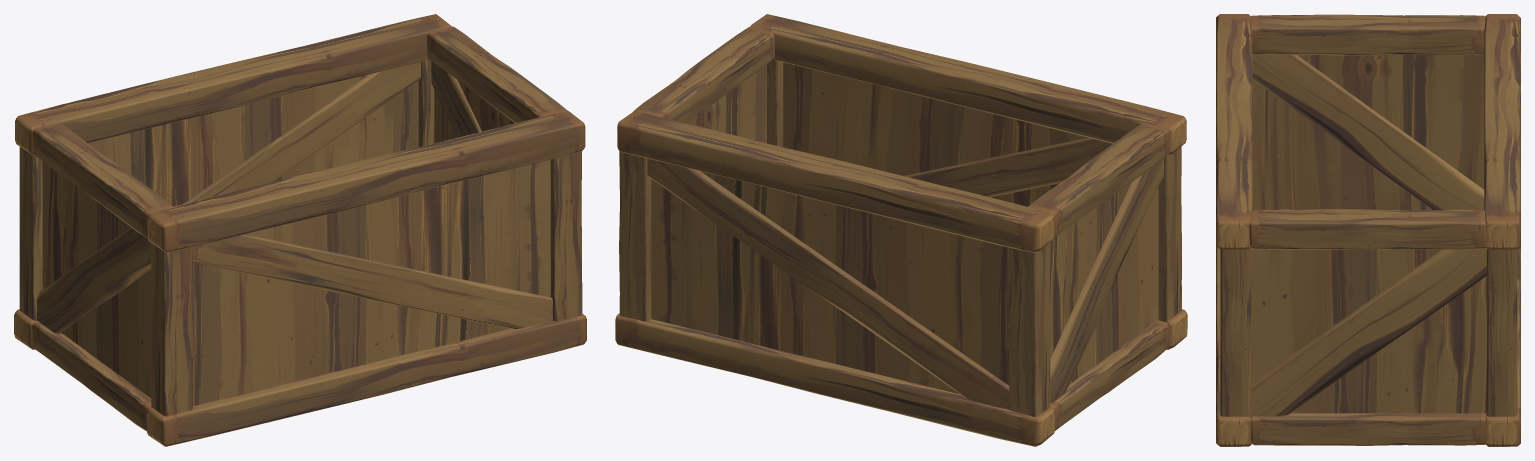
File: SM_PROP_crate_town_04.fbx
3 renders of one model, left to right at view 1: azimuth 30°, elevation 25°; view 2: azimuth 150°, elevation 25°; view 3: azimuth 270°, elevation 25°, orthographic.
Visible parts, largest first — view 1: SM_PROP_crate_town_04_LOD0; view 2: SM_PROP_crate_town_04_LOD0; view 3: SM_PROP_crate_town_04_LOD0.
Boxes of the visible parts, x1,y1,x2,y2 form: SM_PROP_crate_town_04_LOD0: [14, 14, 586, 446]; SM_PROP_crate_town_04_LOD0: [615, 14, 1187, 446]; SM_PROP_crate_town_04_LOD0: [1216, 14, 1520, 446].
Size of what is drawn, in the model's own units: 160 by 80.21 by 98.01.
